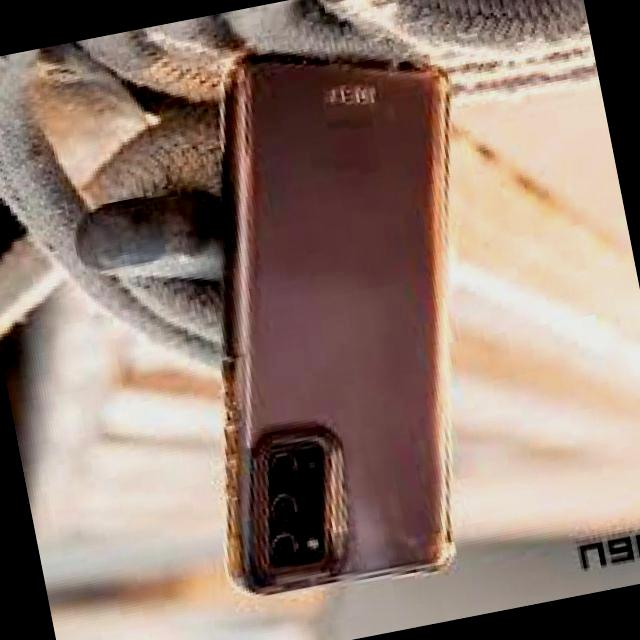lens: (260, 429, 338, 579)
phone: (211, 35, 474, 603)
